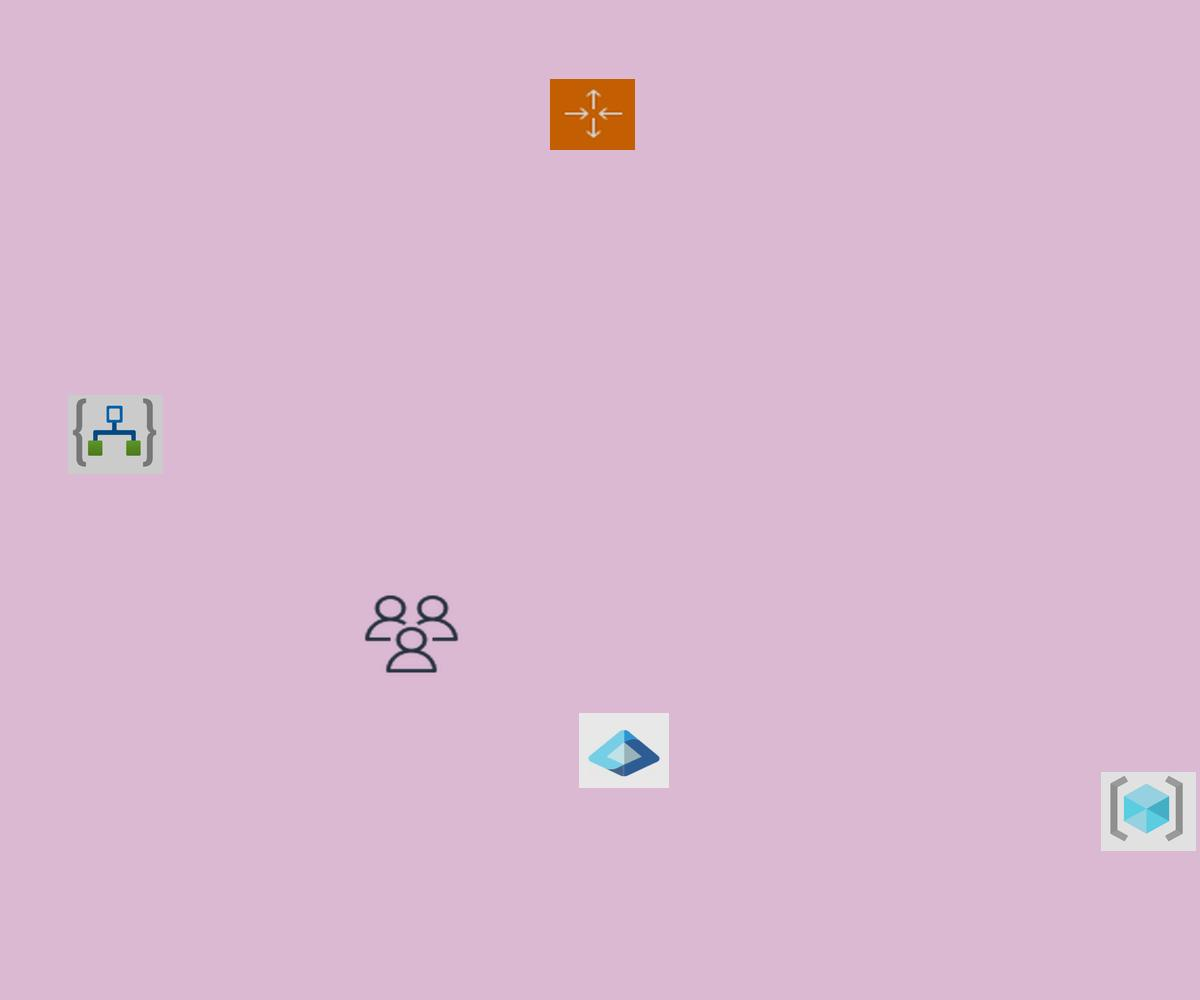AWS-Res_Users: (361, 592, 462, 676)
AWS-Scaling-group: (550, 79, 635, 150)
Azure_integration-204-Logic-Apps: (68, 395, 163, 474)
Azure_microsoft_entra: (579, 713, 669, 788)
Azure_resource_group: (1101, 772, 1196, 851)
